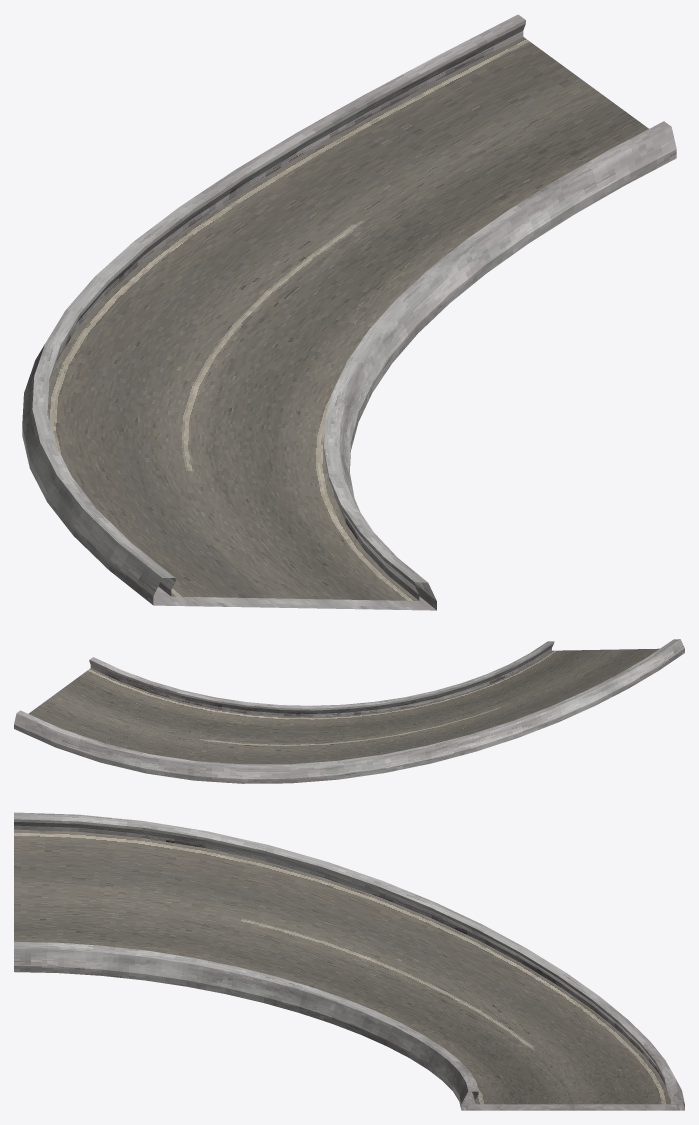
File: turn-right3x3.glb
The picture shows the model from 3 angles, top to bottom: view 1: azimuth 30°, elevation 25°; view 2: azimuth 150°, elevation 25°; view 3: azimuth 270°, elevation 25°; orthographic projection. The views are drawn at different scales.
Visible parts, largest first — view 1: road-Turn-HalfBankedRight-BiSlopeUp-Up1-Right-Size3; view 2: road-Turn-HalfBankedRight-BiSlopeUp-Up1-Right-Size3; view 3: road-Turn-HalfBankedRight-BiSlopeUp-Up1-Right-Size3.
Boxes of the visible parts, x1,y1,x2,y2 form: road-Turn-HalfBankedRight-BiSlopeUp-Up1-Right-Size3: (22,14,676,610); road-Turn-HalfBankedRight-BiSlopeUp-Up1-Right-Size3: (14,639,684,783); road-Turn-HalfBankedRight-BiSlopeUp-Up1-Right-Size3: (14,812,684,1110).
Bounding box in the file's own units: 3 × 0.3444 × 3.
2 materials, 2 textured.
